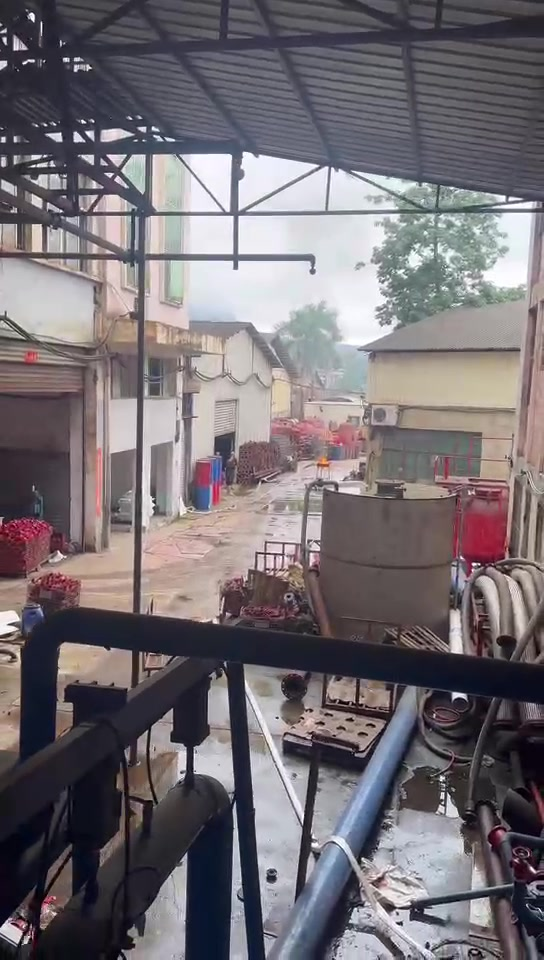fire: (316, 456, 330, 464)
